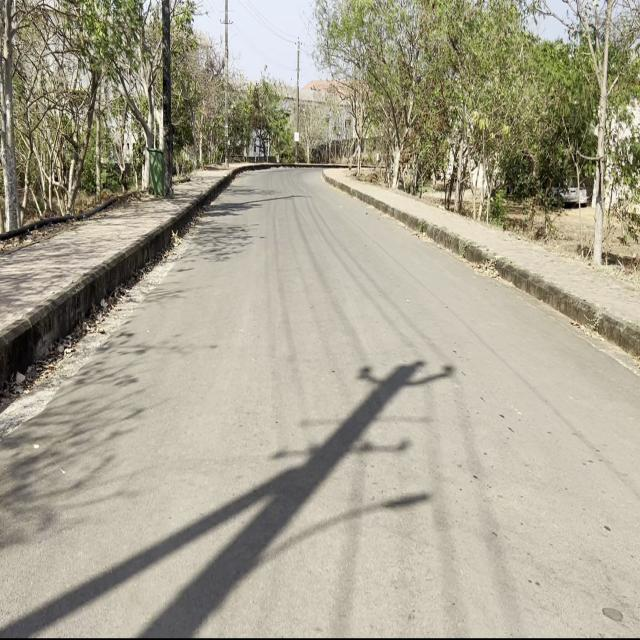Road: (4, 170, 639, 634)
